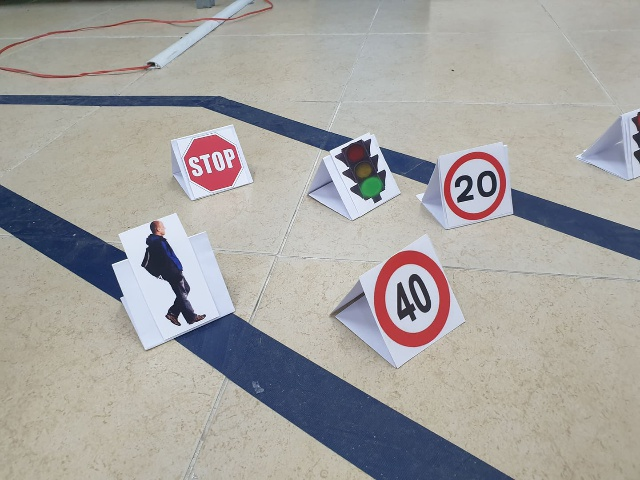Green: (333, 141, 391, 204)
Limit 20: (441, 154, 508, 219)
Limit 40: (369, 252, 452, 345)
Person: (129, 218, 208, 325)
Stop: (176, 135, 243, 191)
